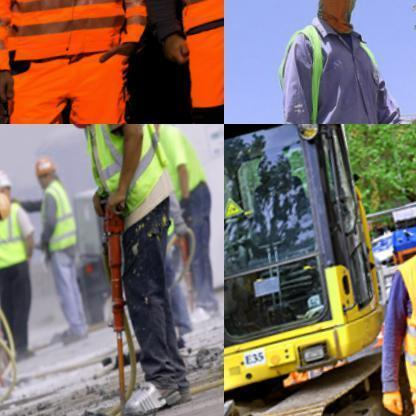vest: (255, 4, 412, 123), (0, 0, 171, 91), (74, 124, 182, 232), (31, 183, 82, 261), (0, 197, 38, 277)
